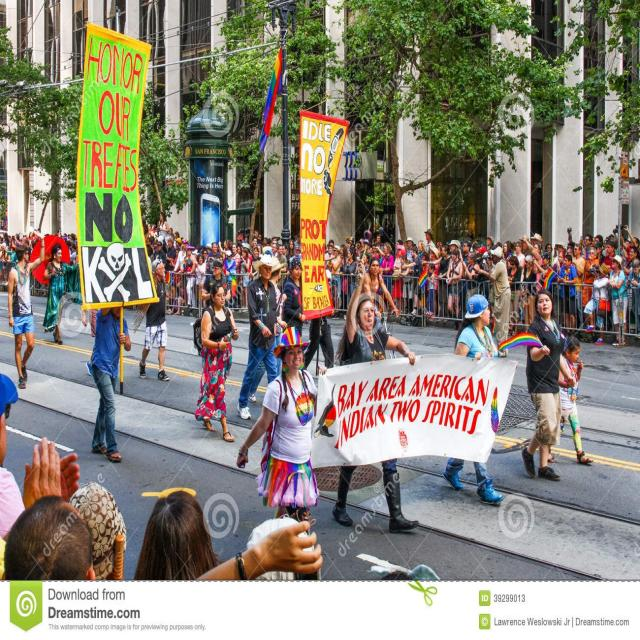body: (0, 386, 327, 578), (321, 228, 639, 334), (332, 256, 420, 532), (0, 223, 309, 293), (234, 325, 329, 536), (442, 293, 504, 505), (522, 288, 563, 482), (235, 252, 279, 420), (5, 230, 48, 391), (198, 279, 240, 443), (90, 305, 133, 463), (546, 334, 594, 466), (242, 253, 278, 406), (138, 257, 170, 382), (42, 241, 80, 346), (478, 244, 512, 361), (359, 256, 400, 333), (302, 307, 336, 373), (606, 254, 629, 347), (282, 255, 307, 340), (202, 258, 232, 310), (86, 306, 98, 376)
